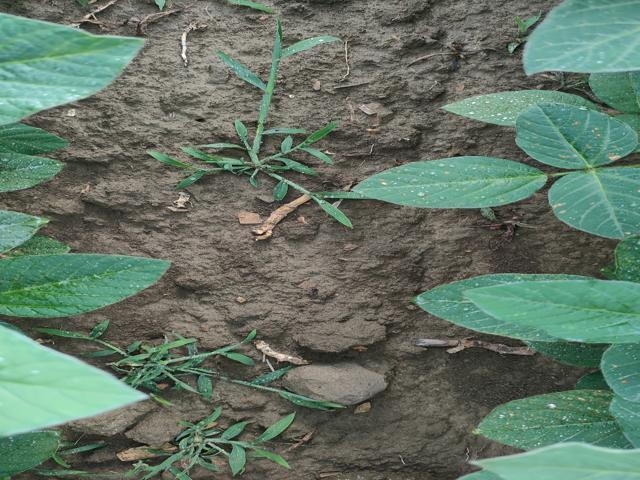bad weed: (153, 41, 370, 232), (76, 320, 349, 410), (127, 403, 298, 474)
